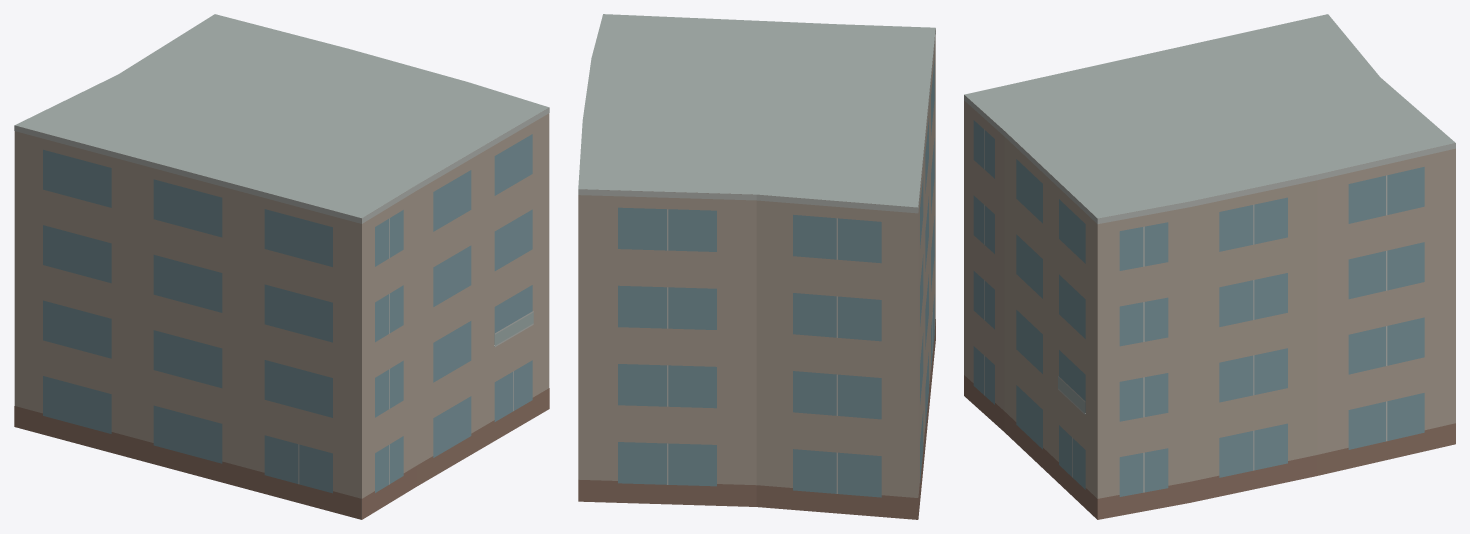
Rendered from survey-upis-33039288.glb.
The picture shows the model from 3 angles, left to right: view 1: azimuth 30°, elevation 25°; view 2: azimuth 150°, elevation 25°; view 3: azimuth 270°, elevation 25°; orthographic projection. The views are drawn at different scales.
Parts seen in each view (by area): view 1: survey-upis-33039288.tmp; view 2: survey-upis-33039288.tmp; view 3: survey-upis-33039288.tmp.
Boxes of the visible parts, x1,y1,x2,y2 form: survey-upis-33039288.tmp: (14,14,549,519); survey-upis-33039288.tmp: (578,14,935,519); survey-upis-33039288.tmp: (964,14,1455,519).
Bounding box in the file's own units: 18.79 × 12.9 × 19.09.
